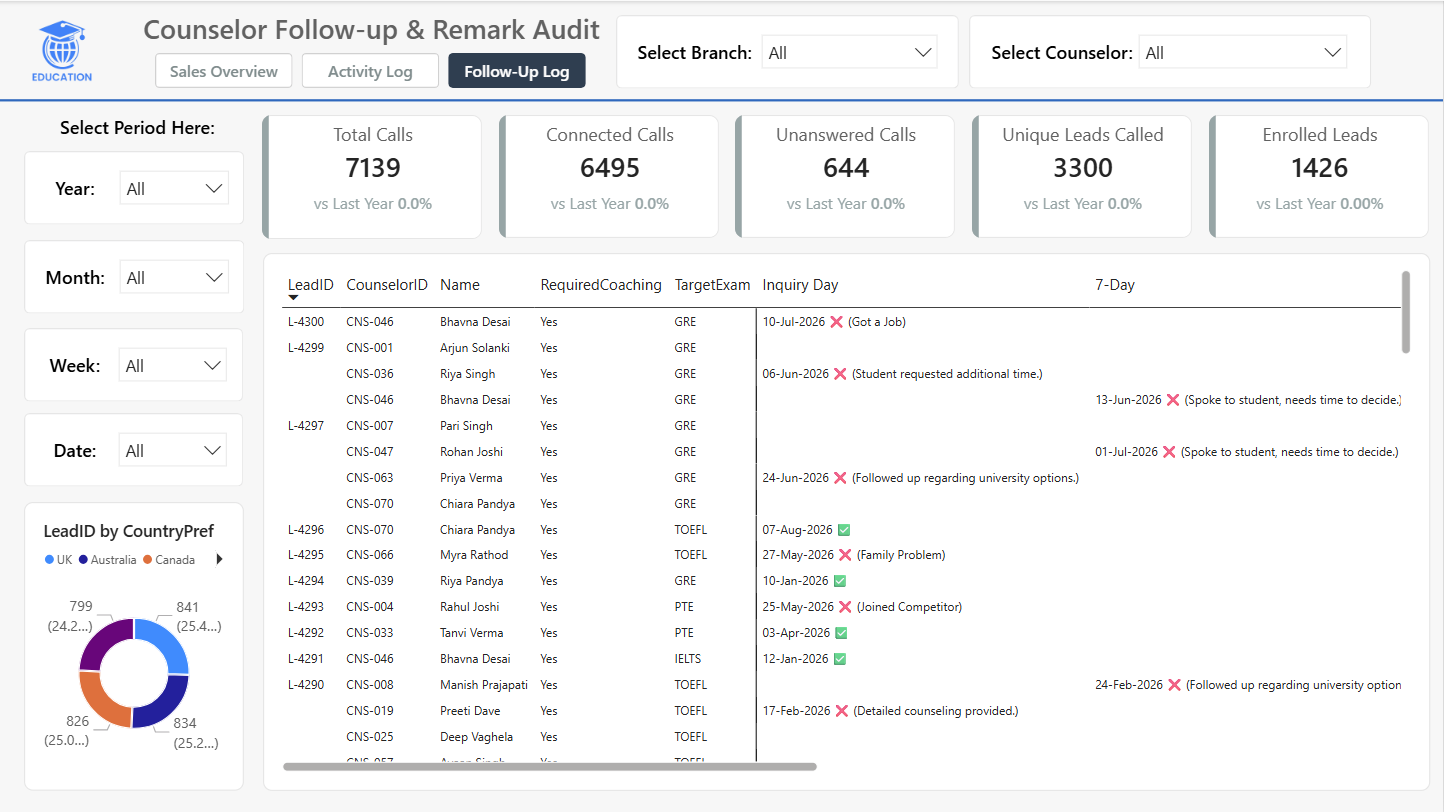

The dashboard page shown, as its layout file describes it:
{"tool":"powerbi","page":{"name":"Follow-Up Log","canvas":[1280,720],"ordinal":2},"visuals":[{"type":"shape","box":[0.3,38,1280,99.9],"z":0},{"type":"cardVisual","fields":{"Data":["Key Measures.Total Calls"]},"box":[232.3,101.1,195,110.3],"z":1000},{"type":"group","id":"g1","title":"Group 1","box":[545.8,12.4,304.1,65.6],"z":2000},{"type":"group","id":"g2","title":"Group 1","box":[858.8,12.4,356.5,65.6],"z":3000},{"type":"group","id":"g3","title":"Group 1","box":[21,133.1,195.1,65],"z":4000},{"type":"shape","box":[545.8,12.4,304,65.3],"z":5500,"group":"g1"},{"type":"shape","box":[858.8,12.4,356.6,65.3],"z":5500,"group":"g2"},{"type":"shape","box":[21,133.1,195.2,65.3],"z":5500,"group":"g3"},{"type":"shape","box":[21,212.1,195.5,65.3],"z":5500,"group":"g4"},{"type":"shape","box":[21,289.9,194.3,65.3],"z":5500,"group":"g5"},{"type":"shape","box":[21,365.4,194.3,65.3],"z":5500,"group":"g6"},{"type":"slicer","fields":{"Values":["dim_branches_master.Branch_Name"]},"box":[669.7,24.9,166.4,41.7],"z":6000,"group":"g1"},{"type":"slicer","fields":{"Values":["dim_staff_master.Name"]},"box":[1004.1,24.9,195.2,41.7],"z":6000,"group":"g2"},{"type":"cardVisual","fields":{"Data":["Key Measures.Connected Calls"]},"box":[442.2,101.1,195,109.2],"z":6000},{"type":"slicer","fields":{"Values":["dim_year_slicer.Year"]},"box":[100.5,145.6,106.8,41.7],"z":6000,"group":"g3"},{"type":"slicer","fields":{"Values":["dim_date_2024_2025.Month Year"]},"box":[100.6,224.6,107,41.7],"z":6000,"group":"g4"},{"type":"slicer","fields":{"Values":["dim_date_2024_2025.Monthly Week"]},"box":[100.2,302.4,106.4,41.7],"z":6000,"group":"g5"},{"type":"slicer","fields":{"Values":["dim_date_2024_2025.Date"]},"box":[100.2,377.9,106.4,41.7],"z":6000,"group":"g6"},{"type":"cardVisual","fields":{"Data":["Key Measures.Unique Leads Called"]},"box":[862,101.1,195,109.2],"z":7000},{"type":"cardVisual","fields":{"Data":["Key Measures.Unanswered Calls"]},"box":[652.1,101.1,195,109.2],"z":8000},{"type":"textbox","box":[562.1,34.6,107.6,20.8],"z":9000,"group":"g1"},{"type":"textbox","box":[877.9,34.6,126.2,20.8],"z":9000,"group":"g2"},{"type":"cardVisual","fields":{"Data":["Key Measures.Enrolled Leads"]},"box":[1071.9,101.1,195,109.2],"z":9000},{"type":"textbox","box":[31.4,155.3,69.1,20.8],"z":9000,"group":"g3"},{"type":"textbox","box":[31.5,234.3,69.2,20.8],"z":9000,"group":"g4"},{"type":"textbox","box":[31.4,312.1,68.8,20.8],"z":9000,"group":"g5"},{"type":"textbox","box":[31.4,387.6,68.8,20.8],"z":9000,"group":"g6"},{"type":"group","id":"g4","title":"Group 1","box":[21,212.1,195.1,66.2],"z":10000},{"type":"group","id":"g5","title":"Group 1","box":[21,289.9,195.1,66.2],"z":11000},{"type":"group","id":"g6","title":"Group 1","box":[21,365.4,195.1,66.2],"z":12000},{"type":"textbox","box":[53.4,101.1,145.2,27.9],"z":13000},{"type":"image","box":[0,0,109.3,88.2],"z":14000},{"type":"textbox","box":[118.8,8,421.2,34.6],"z":15000},{"type":"pivotTable","fields":{"Columns":["fact_followups_telecom_final.FollowupStage"],"Rows":["fact_leads_intake_final.LeadID","fact_followups_telecom_final.CounselorID","dim_staff_master.Name","fact_leads_intake_final.RequiredCoaching","fact_leads_intake_final.TargetExam"],"Values":["Key Measures.Stage Tracker"]},"box":[233.2,223.4,1034.8,477],"z":17000},{"type":"donutChart","title":"LeadID by CountryPref","fields":{"Category":["fact_leads_intake_final.CountryPref1"],"Y":["CountNonNull(fact_leads_intake_final.LeadID)"]},"box":[21.3,444.2,195.1,256.3],"z":18000},{"type":"pageNavigator","box":[137.4,46.1,383.9,31.9],"z":18001}]}

Visuals, with their boxes in screenshot pixels (x1, y1, x2, y2), scaled from the page's 1280x720 canvas onto the 1444x812 screenshot:
shape: select_region(0, 43, 1443, 156)
cardVisual - Key Measures.Total Calls: select_region(262, 114, 482, 238)
"Group 1" group: select_region(616, 14, 959, 88)
"Group 1" group: select_region(969, 14, 1371, 88)
"Group 1" group: select_region(24, 150, 244, 223)
shape: select_region(616, 14, 959, 88)
shape: select_region(969, 14, 1371, 88)
shape: select_region(24, 150, 244, 224)
shape: select_region(24, 239, 244, 313)
shape: select_region(24, 327, 243, 401)
shape: select_region(24, 412, 243, 486)
slicer - dim_branches_master.Branch_Name: select_region(756, 28, 943, 75)
slicer - dim_staff_master.Name: select_region(1133, 28, 1353, 75)
cardVisual - Key Measures.Connected Calls: select_region(499, 114, 719, 237)
slicer - dim_year_slicer.Year: select_region(113, 164, 234, 211)
slicer - dim_date_2024_2025.Month Year: select_region(113, 253, 234, 300)
slicer - dim_date_2024_2025.Monthly Week: select_region(113, 341, 233, 388)
slicer - dim_date_2024_2025.Date: select_region(113, 426, 233, 473)
cardVisual - Key Measures.Unique Leads Called: select_region(972, 114, 1192, 237)
cardVisual - Key Measures.Unanswered Calls: select_region(736, 114, 956, 237)
textbox: select_region(634, 39, 756, 62)
textbox: select_region(990, 39, 1133, 62)
cardVisual - Key Measures.Enrolled Leads: select_region(1209, 114, 1429, 237)
textbox: select_region(35, 175, 113, 199)
textbox: select_region(36, 264, 114, 288)
textbox: select_region(35, 352, 113, 375)
textbox: select_region(35, 437, 113, 461)
"Group 1" group: select_region(24, 239, 244, 314)
"Group 1" group: select_region(24, 327, 244, 402)
"Group 1" group: select_region(24, 412, 244, 487)
textbox: select_region(60, 114, 224, 145)
image: select_region(0, 0, 123, 99)
textbox: select_region(134, 9, 609, 48)
pivotTable - fact_followups_telecom_final.FollowupStage x fact_leads_intake_final.LeadID: select_region(263, 252, 1430, 790)
"LeadID by CountryPref" donutChart: select_region(24, 501, 244, 790)
pageNavigator: select_region(155, 52, 588, 88)
